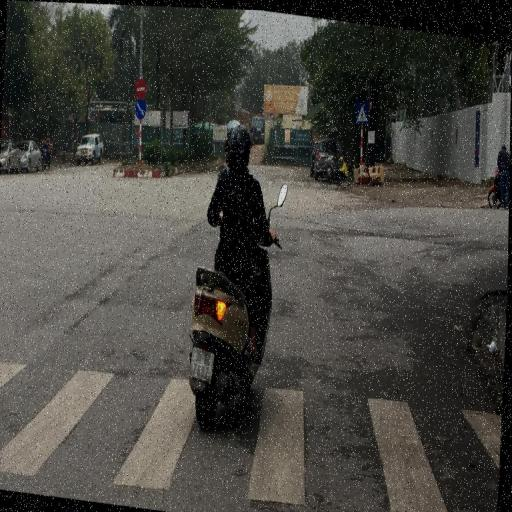bike: (183, 115, 284, 437)
numberplate: (190, 344, 217, 384)
with helmet: (228, 120, 255, 154)
